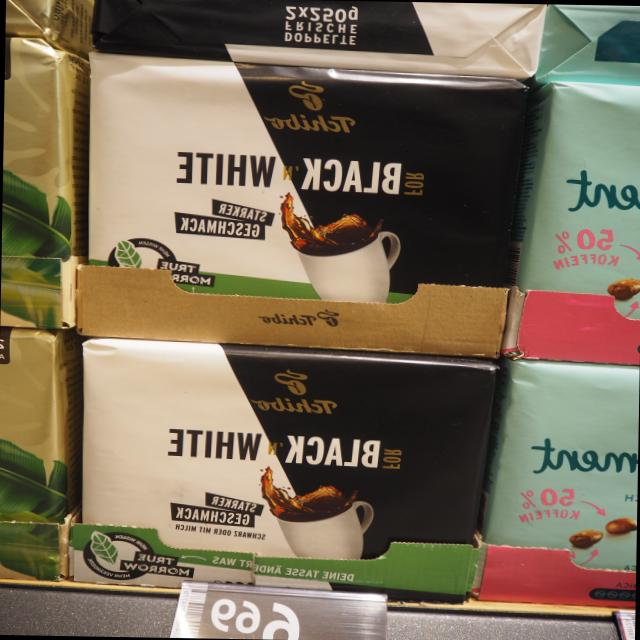BW Gemahlen: (74, 49, 540, 360), (75, 334, 499, 595)
